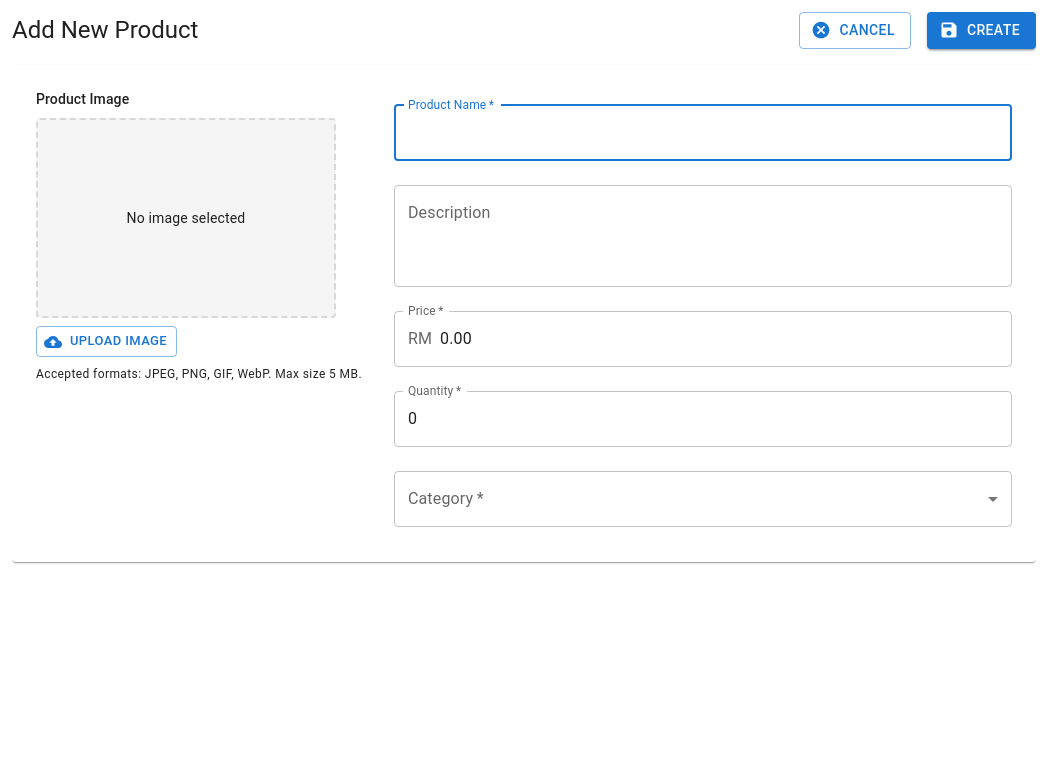
Test: ProductFormPage (Create Mode) › limits the price input to 2 decimal places
Replace the text in the number field labelled "Price *" with "12.345" at (726, 338), box [440, 310, 1012, 366]
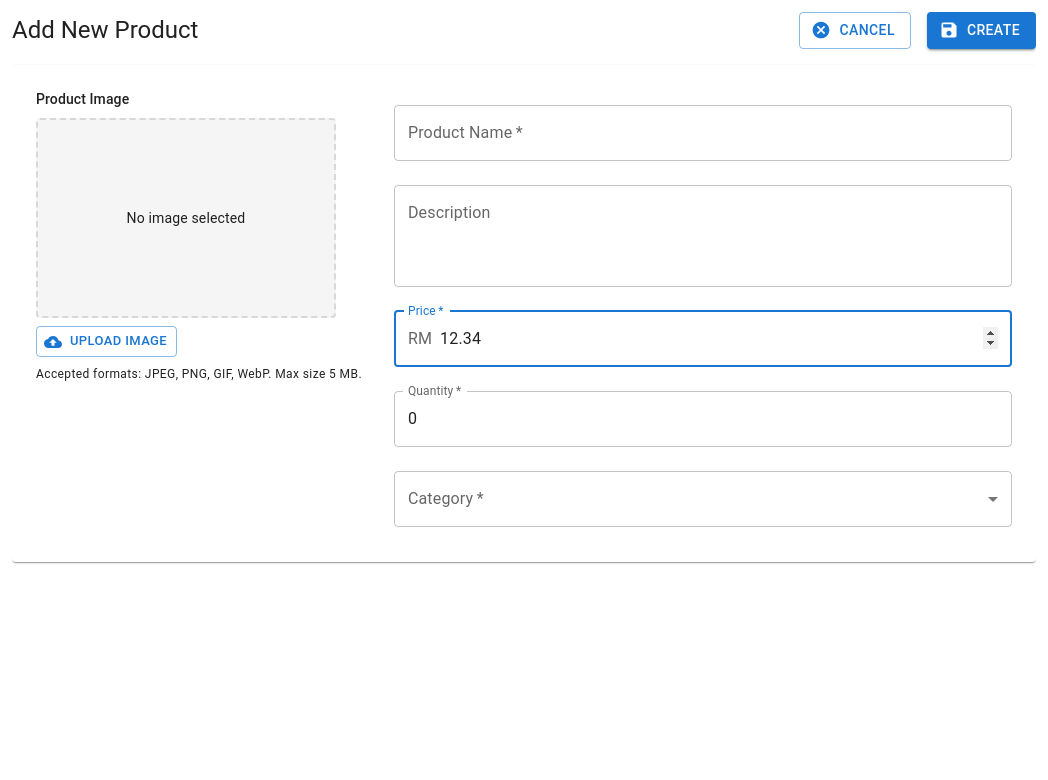
Expected: the number field labelled "Price *" holds "12.34", [440, 310, 1012, 366]
